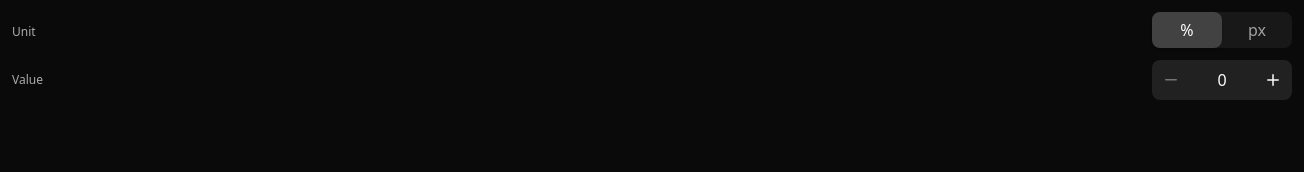
Count component › should allow negative input but clamp to 0 on blur
Replace the text in the field with "-5" at (1222, 80), box [1189,61,1255,99]
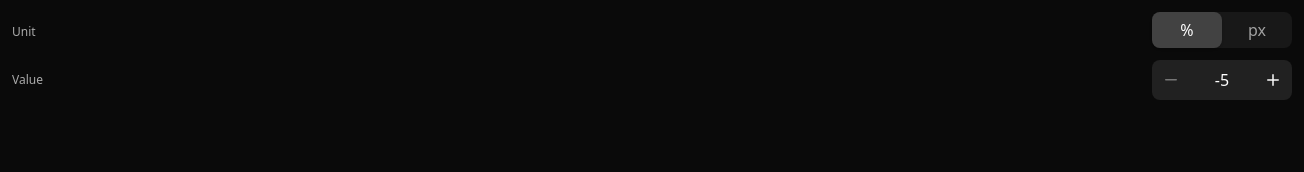
Leave the field, box [1189,61,1255,99]
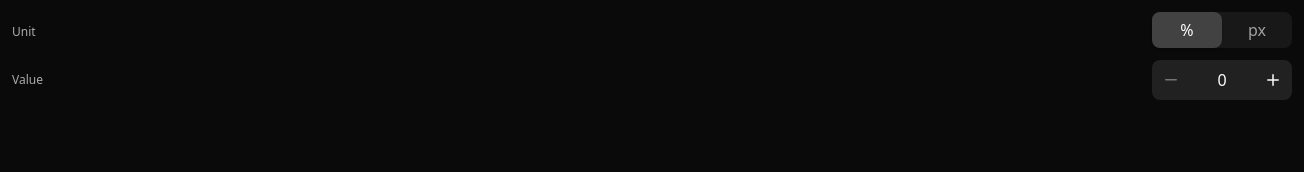
expect the field holds "0": met, box [1189,61,1255,99]
